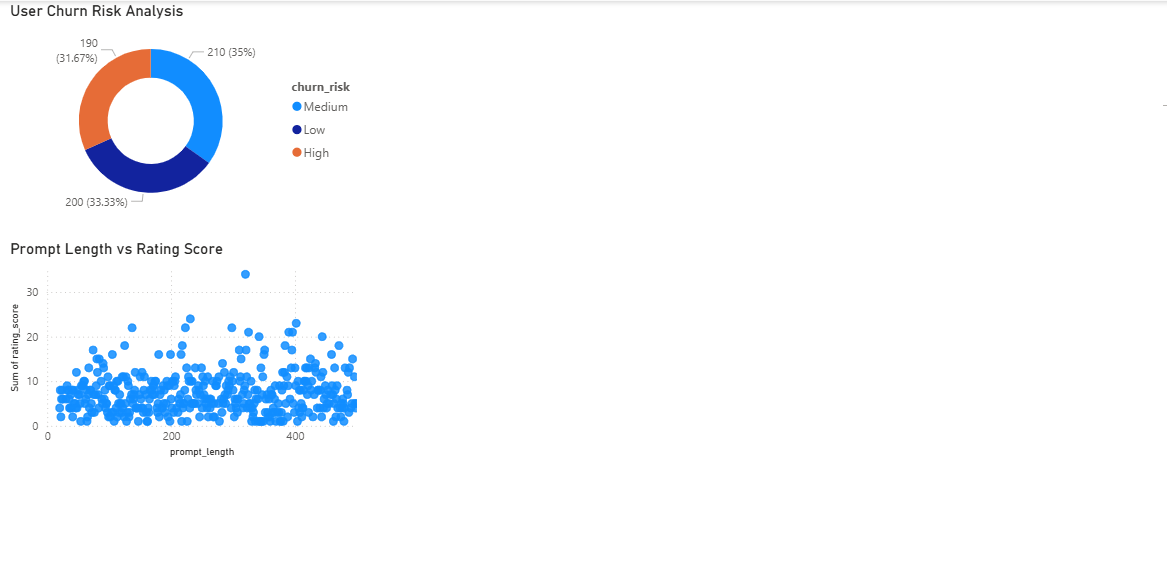

Layout of this report page (visuals, bound fields, positions):
{"tool":"powerbi","page":{"name":"Page 3","canvas":[1280,720],"ordinal":2},"visuals":[{"type":"donutChart","title":"User Churn Risk Analysis","fields":{"Category":["User_Behavior_Analytics.churn_risk"],"Y":["CountNonNull(User_Behavior_Analytics.user_id)"]},"box":[9.6,0,400.7,244.3],"z":0},{"type":"scatterChart","title":"Prompt Length vs Rating Score","fields":{"Y":["Sum(Ratings.rating_score)"],"X":["Prompts.prompt_length"]},"box":[9.6,262.1,400.7,244.3],"z":1000}]}

Visuals, with their boxes on the page's 1280x720 design canvas (x1, y1, x2, y2). These are canvas units, not pixel positions in the 1167x567 screenshot, which may show the page scaled, cropped or inside an application window:
"User Churn Risk Analysis" donutChart: bbox=[10, 0, 410, 244]
"Prompt Length vs Rating Score" scatterChart: bbox=[10, 262, 410, 506]
